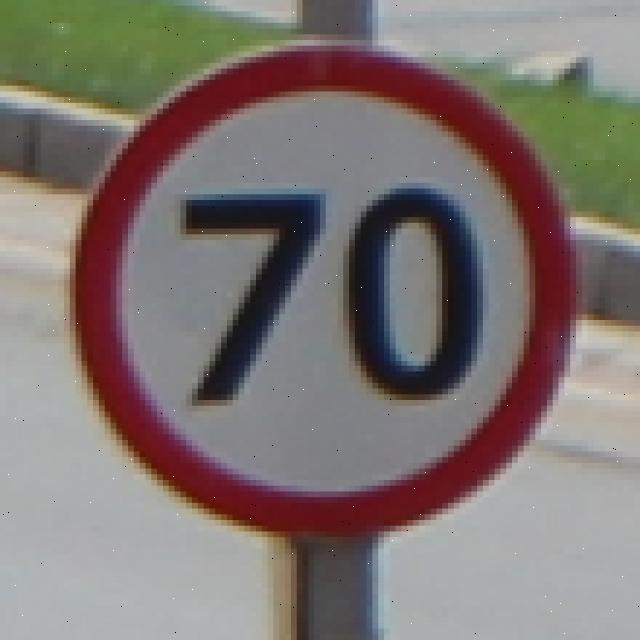speed limit 70: (70, 42, 579, 533)
